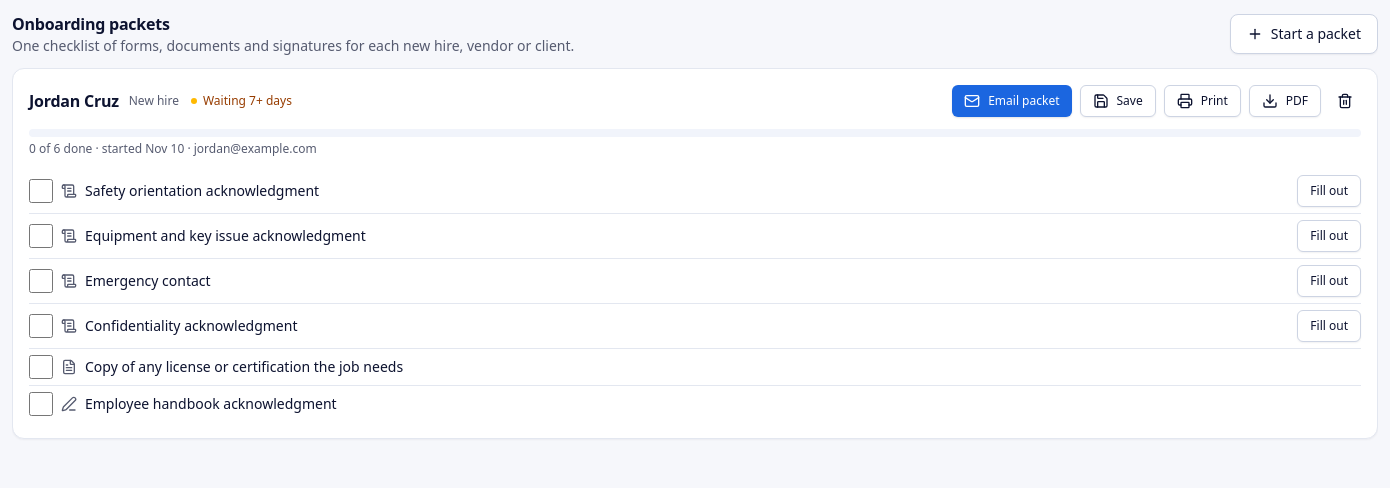
Test case: Packets: emailing and reminders › emails a packet after asking, records that it was sent, and then offers a reminder
What coordinates should you click on to do the following:
click the button with aria-label "Email packet to Jordan Cruz"
I would click on:
 (1012, 101)
Its box is [952, 85, 1072, 117].
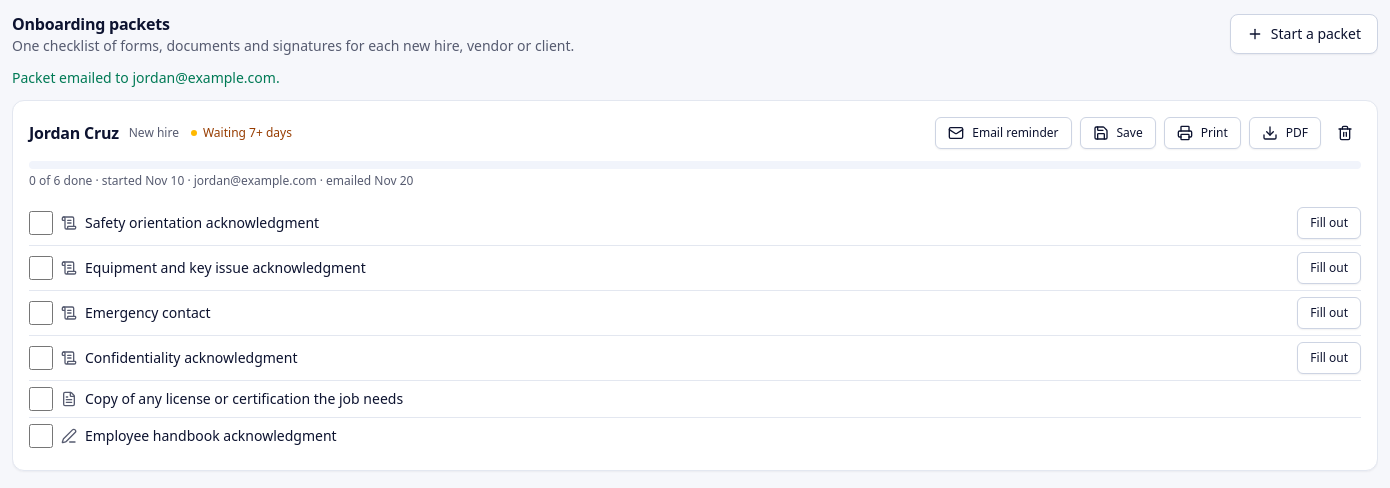
expect the message reads "Packet emailed to jordan@example.com.": met, box [12, 68, 280, 87]
expect the button with aria-label "Email a reminder to Jordan Cruz" is shown: met, box [935, 117, 1072, 149]
expect the text "emailed Nov 20" is shown: met, box [317, 172, 413, 189]
